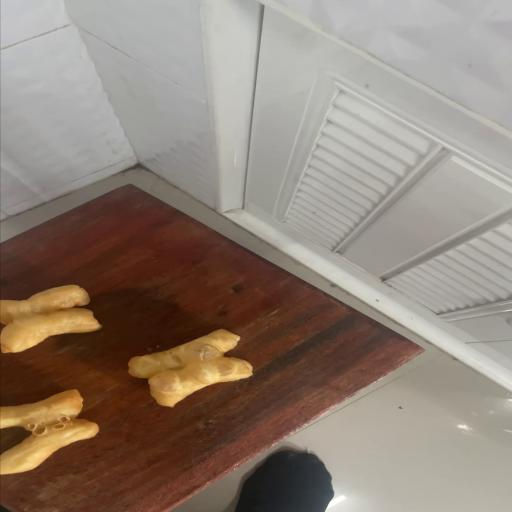street_golden_defect: (126, 330, 253, 405), (0, 390, 93, 475)
street_golden_good: (2, 286, 100, 352)
